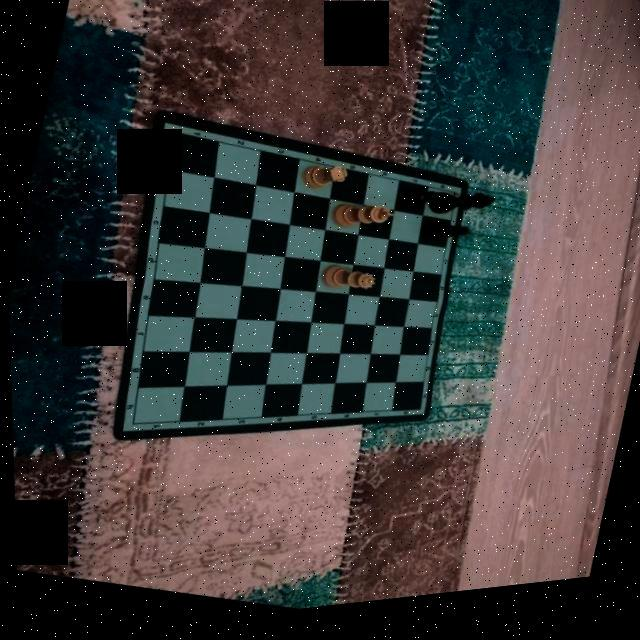chess-table-corners: (440, 188, 468, 214), (122, 417, 138, 433), (408, 409, 424, 425), (164, 128, 180, 142)
